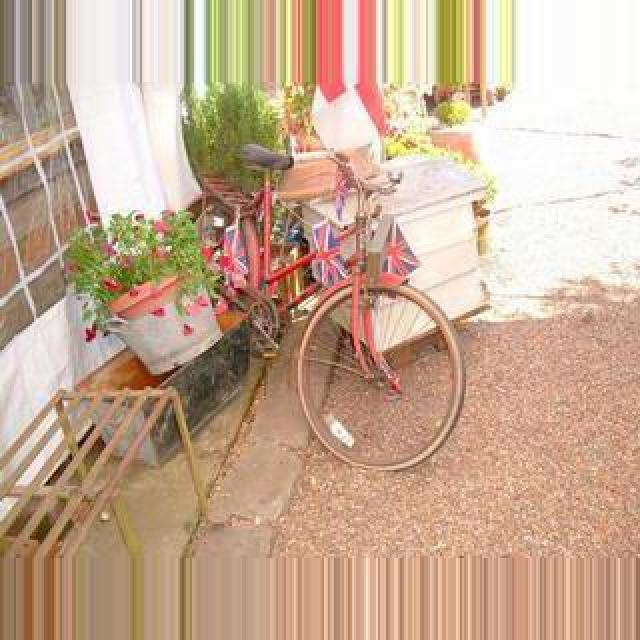Person: (212, 119, 474, 469)
